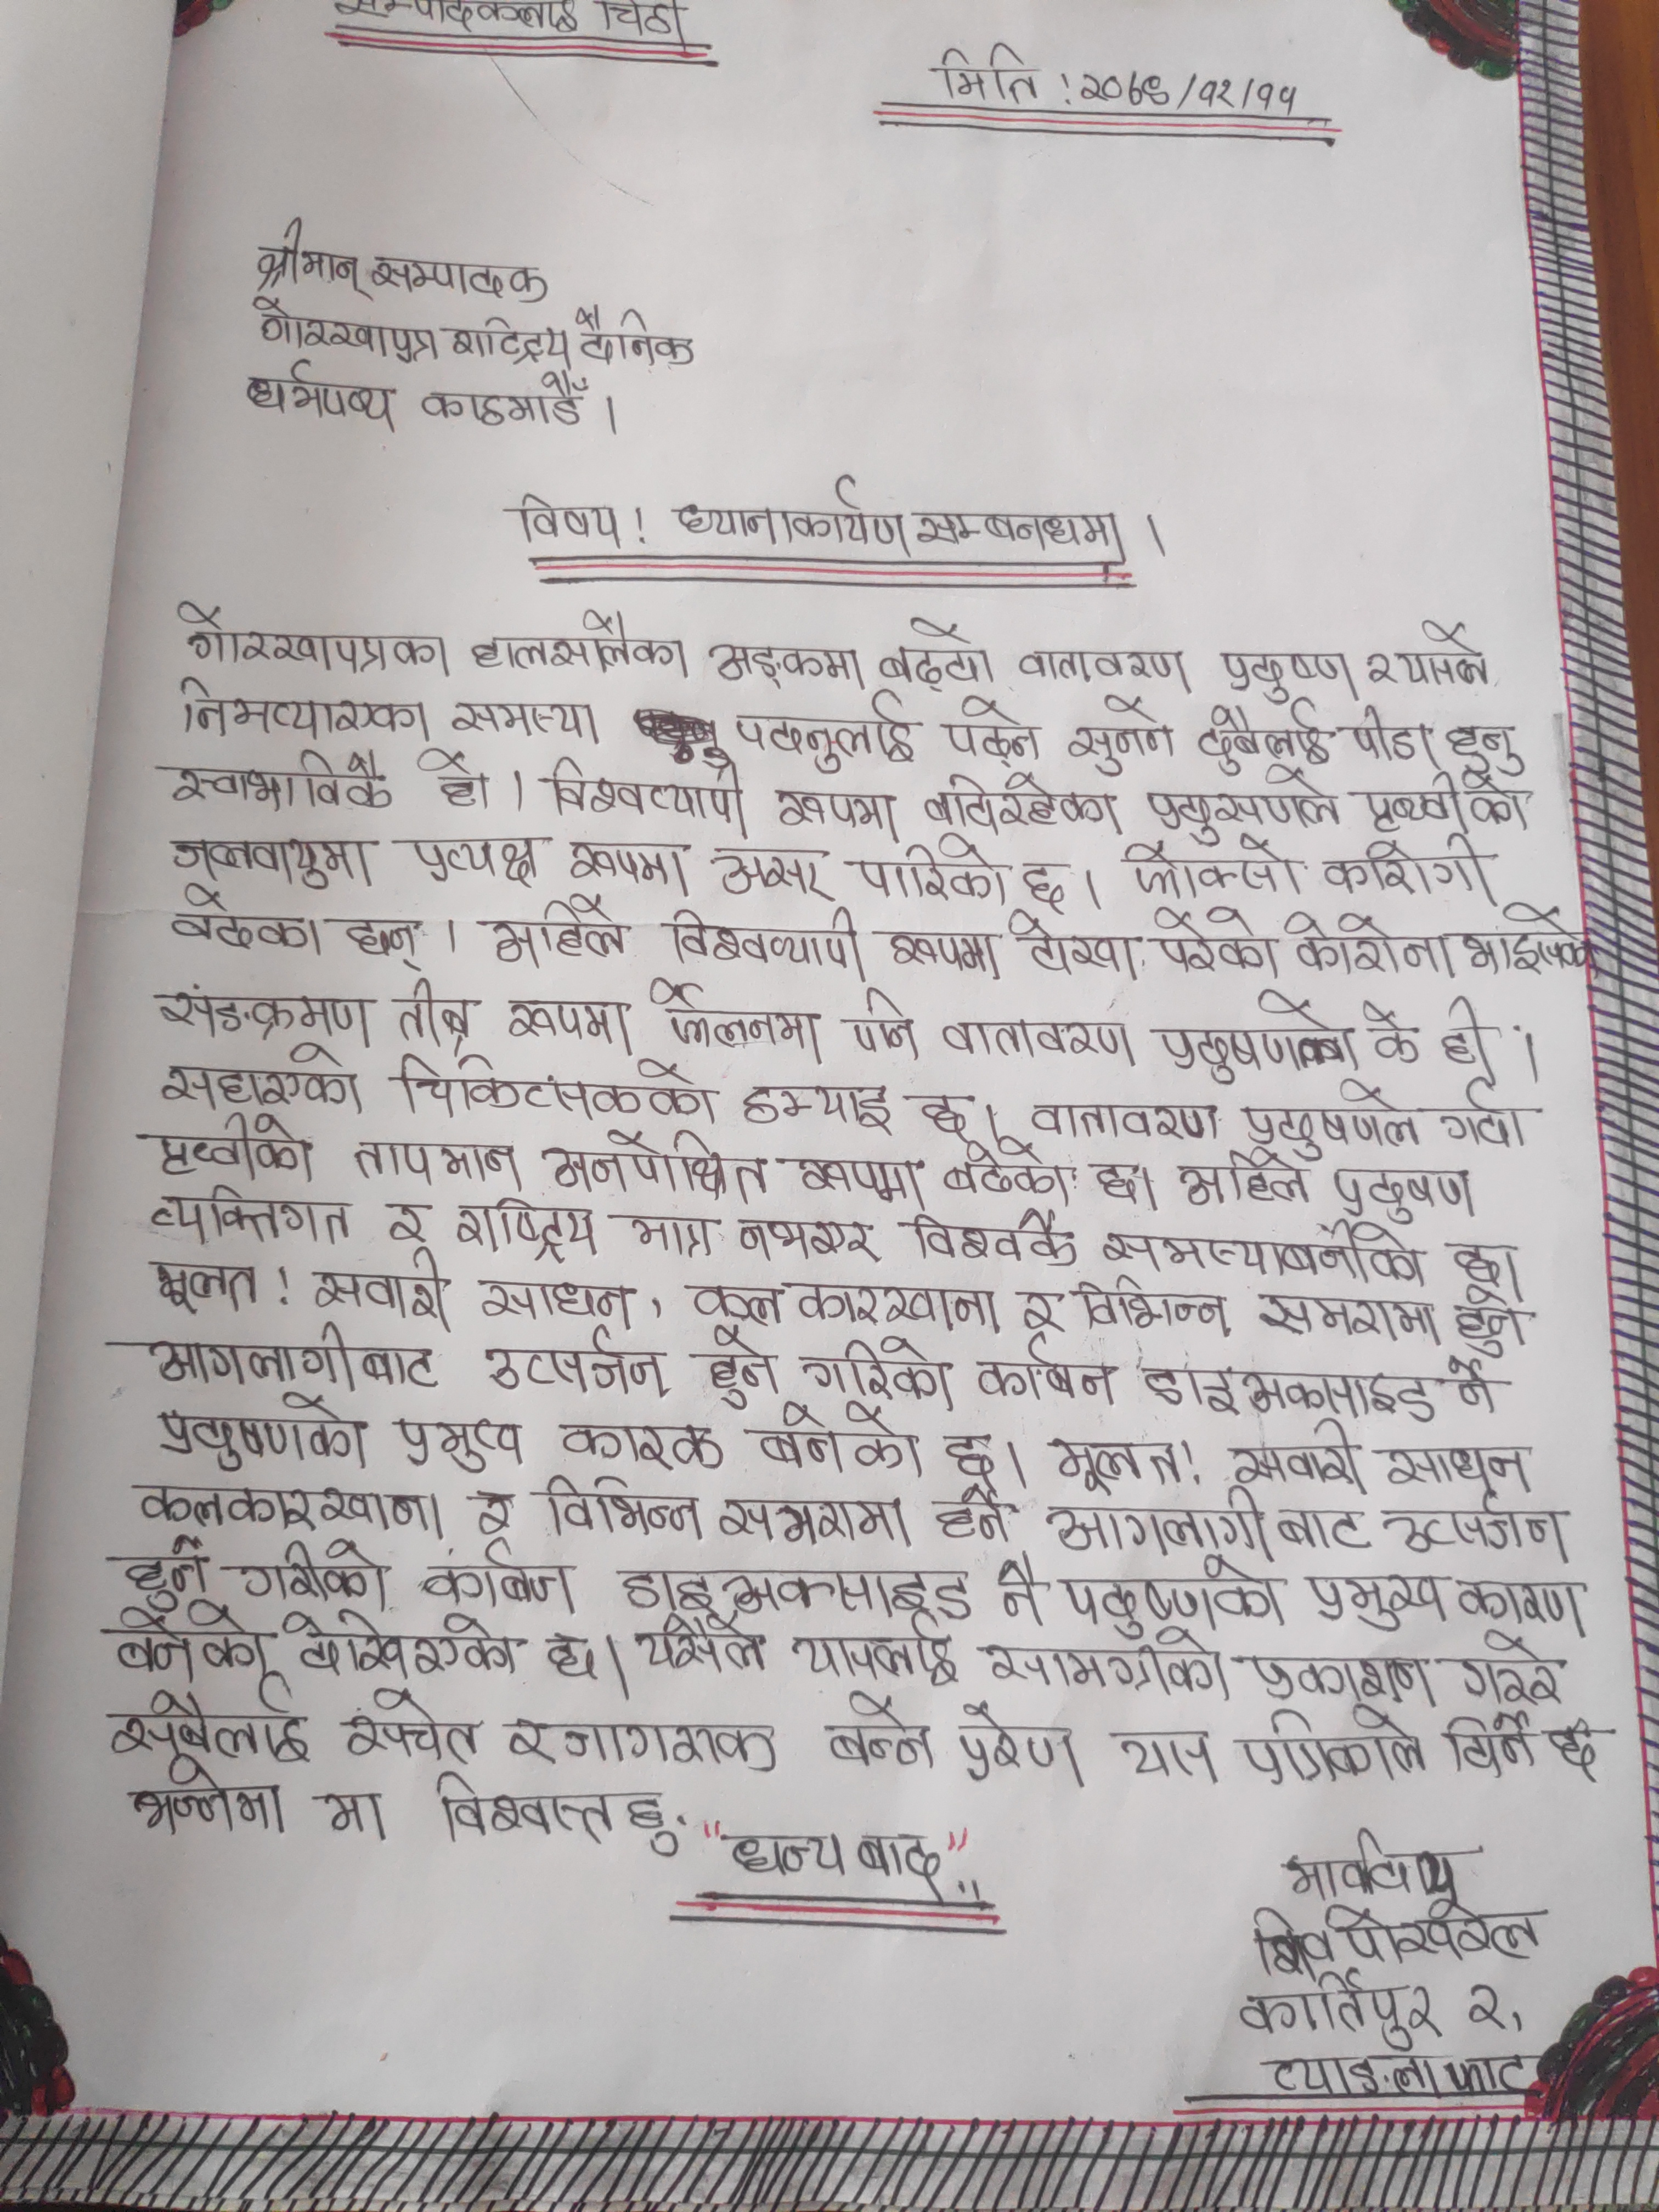text: (157, 594, 451, 678), (392, 1050, 720, 1125), (606, 1555, 976, 1620), (427, 1768, 687, 1855), (131, 1320, 436, 1393), (1091, 1221, 1436, 1285), (1138, 1353, 1446, 1423), (1141, 984, 1358, 1080), (99, 1674, 312, 1770), (666, 474, 915, 554), (1060, 1552, 1293, 1637), (1230, 1905, 1556, 1966), (125, 1475, 441, 1538), (500, 1712, 786, 1778), (317, 0, 699, 49), (540, 751, 755, 836), (153, 1388, 368, 1472), (537, 1129, 782, 1200), (153, 747, 392, 819), (978, 1630, 1230, 1696), (169, 678, 436, 738), (1241, 1075, 1429, 1160), (1234, 1707, 1432, 1787), (465, 606, 687, 678), (1044, 1491, 1274, 1559), (727, 693, 917, 773), (277, 1611, 519, 1674), (732, 1822, 945, 1893), (1236, 1975, 1443, 2048), (157, 822, 378, 890), (148, 982, 382, 1045), (1253, 2050, 1542, 2101), (662, 907, 866, 979), (744, 1406, 927, 1484), (915, 773, 1131, 840), (477, 1327, 673, 1400), (146, 1184, 361, 1251), (1136, 772, 1338, 841), (87, 1602, 277, 1676), (159, 880, 328, 961), (657, 981, 830, 1059), (1284, 1832, 1478, 1902), (1253, 1278, 1443, 1348), (1380, 1491, 1574, 1559), (471, 892, 641, 968), (1284, 909, 1459, 984), (795, 1275, 1006, 1336), (143, 1115, 317, 1188), (845, 836, 1007, 914), (153, 1050, 361, 1111), (716, 1487, 924, 1548), (1314, 836, 1497, 904), (1077, 66, 1307, 120), (782, 1616, 964, 1684), (542, 1475, 709, 1547), (410, 366, 589, 432), (798, 1331, 957, 1406), (254, 305, 443, 368), (125, 1766, 295, 1836), (335, 1686, 486, 1763), (972, 1331, 1121, 1409), (368, 246, 563, 305), (225, 1541, 394, 1609), (416, 1543, 586, 1611), (1121, 836, 1307, 897), (474, 1263, 641, 1331), (904, 1204, 1080, 1268), (559, 1414, 735, 1479), (343, 1129, 523, 1191), (910, 505, 1129, 556), (1190, 697, 1335, 773), (1460, 904, 1601, 982), (941, 1012, 1141, 1066), (1061, 688, 1180, 779), (1169, 1139, 1319, 1211), (308, 1259, 462, 1329), (1361, 770, 1527, 834), (1450, 1629, 1577, 1712), (812, 1689, 939, 1773), (1147, 902, 1279, 981), (251, 359, 392, 432), (1222, 1421, 1371, 1489), (247, 216, 371, 298), (951, 1707, 1080, 1785), (871, 613, 1004, 688), (451, 1195, 601, 1261), (725, 1211, 892, 1268), (1305, 1564, 1450, 1630), (1321, 1162, 1478, 1223), (1019, 1097, 1230, 1143), (1371, 1439, 1541, 1494), (1012, 911, 1143, 982), (1075, 1278, 1237, 1336), (99, 1529, 211, 1611), (401, 1409, 535, 1477), (1237, 1656, 1445, 1700), (500, 993, 636, 1059), (784, 1146, 924, 1211), (1446, 1573, 1588, 1635), (627, 1616, 774, 1676), (702, 637, 868, 690), (769, 782, 904, 845), (401, 824, 540, 885), (443, 690, 601, 742), (1427, 1076, 1541, 1148), (1018, 643, 1188, 690), (938, 1141, 1068, 1202), (566, 833, 701, 892), (685, 1327, 786, 1406), (443, 310, 580, 368), (146, 1259, 270, 1322), (1218, 648, 1363, 700), (575, 310, 701, 369), (939, 693, 1046, 763), (934, 44, 1046, 110), (701, 846, 836, 900), (1049, 1440, 1185, 1494), (1112, 1723, 1220, 1789), (505, 493, 629, 550), (1399, 622, 1493, 697), (742, 1085, 897, 1130), (880, 930, 1002, 988), (1441, 1709, 1541, 1778), (1340, 709, 1446, 772), (383, 975, 479, 1042), (1432, 712, 1532, 775), (1450, 1284, 1528, 1362), (1279, 1501, 1377, 1564), (308, 1784, 401, 1850), (331, 907, 427, 968), (626, 1207, 725, 1264), (840, 995, 924, 1061), (1541, 1721, 1614, 1794), (927, 1487, 1014, 1548), (683, 1280, 784, 1329), (1434, 993, 1499, 1066), (418, 749, 497, 808), (1014, 848, 1073, 916), (992, 1566, 1053, 1627), (1363, 1000, 1417, 1068), (1445, 1233, 1513, 1285), (378, 1197, 436, 1258), (460, 1484, 526, 1536), (540, 1625, 599, 1683), (1453, 1355, 1506, 1420), (918, 1090, 969, 1150), (1080, 1155, 1141, 1204), (1460, 1979, 1506, 2041), (1011, 1284, 1065, 1336), (943, 1430, 1006, 1472), (1358, 629, 1398, 690)
